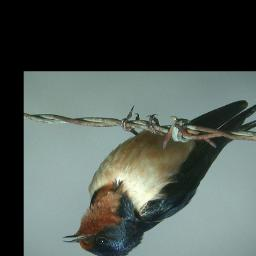Swallow: (62, 100, 256, 256)
